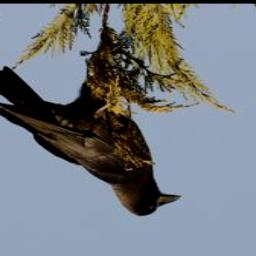Crow: (0, 60, 184, 222)
